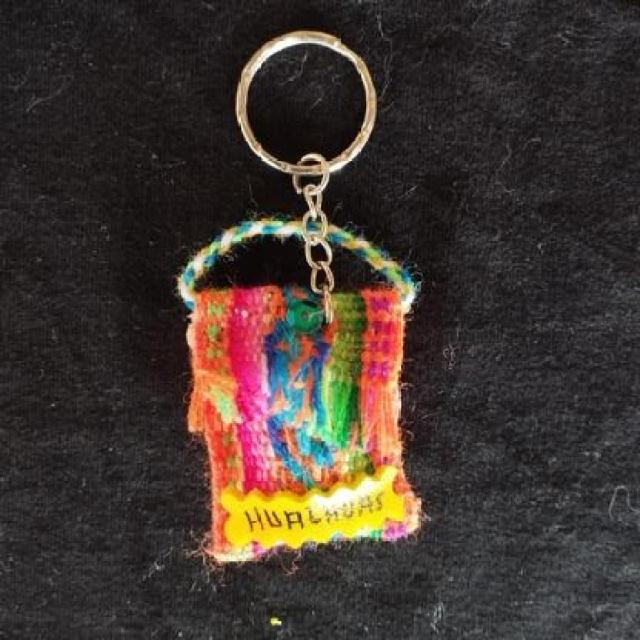Llavero: (177, 214, 425, 564)
